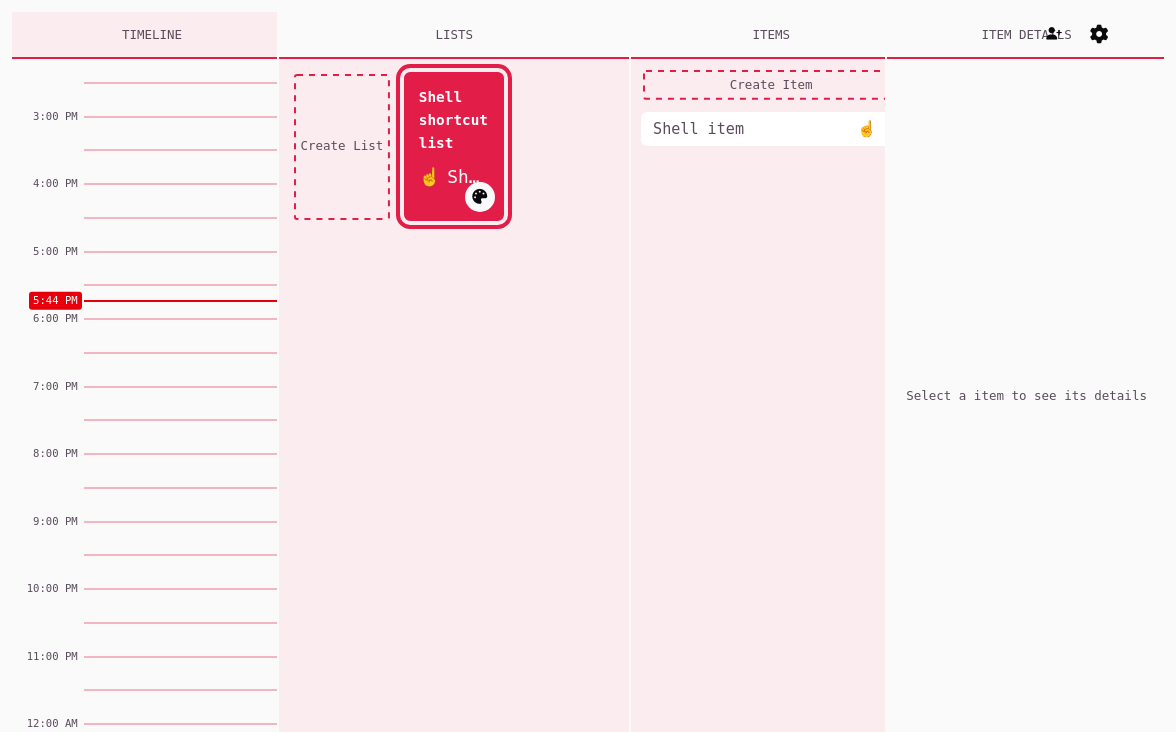
Scenario: PlannerShell contextual shortcuts › keeps a collapsed column shell fixed when descendants request scrolling
(page scrolled)
Click the button named "Collapse Lists" at (454,34), box [279,12,629,57]
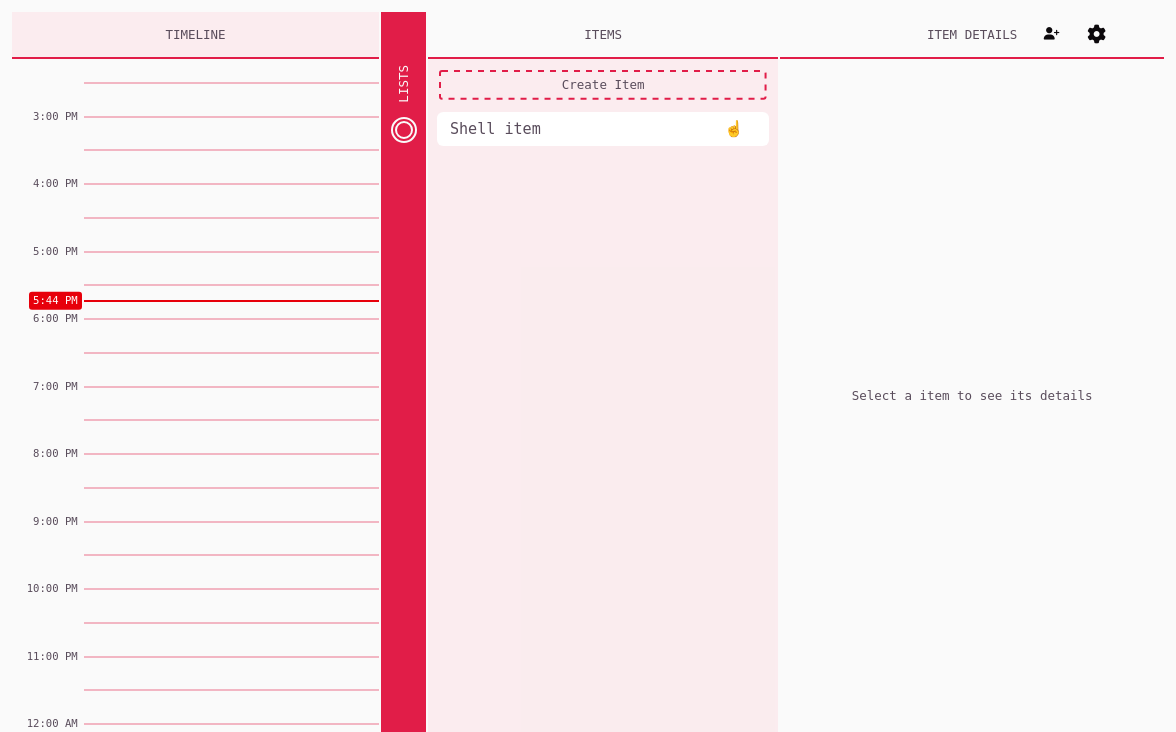
Expected: the button named "Expand Lists" is shown, [381,12,426,731]
